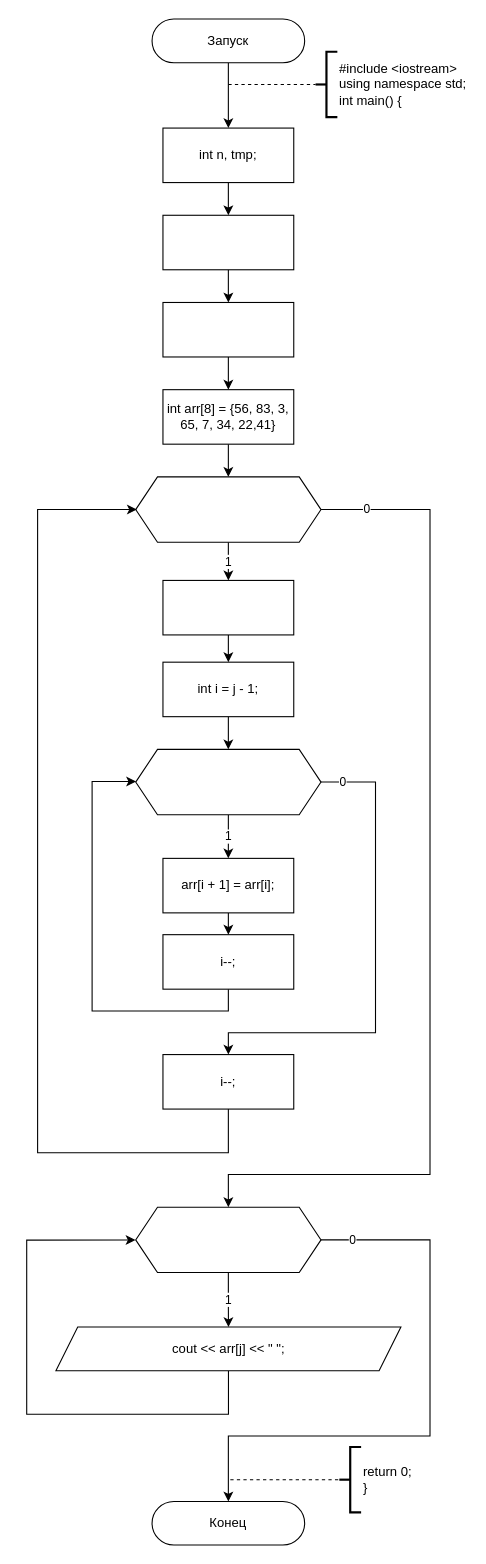
This 486x1564 diagram has some shape labels left out. Here are the shapes that lost their labels. From the top down, the centre of each, then its label:
At [228,242]: "n = 5;".
At [228,329]: "int tmp;".
At [228,509]: "for (int j = 1; j < n; j++)".
At [228,607]: "tmp = arr[j];".
At [228,781]: "while (i >= 0 && arr[i] > tmp)".
At [228,1239]: "for (int j = 0; j < n; j++)".
